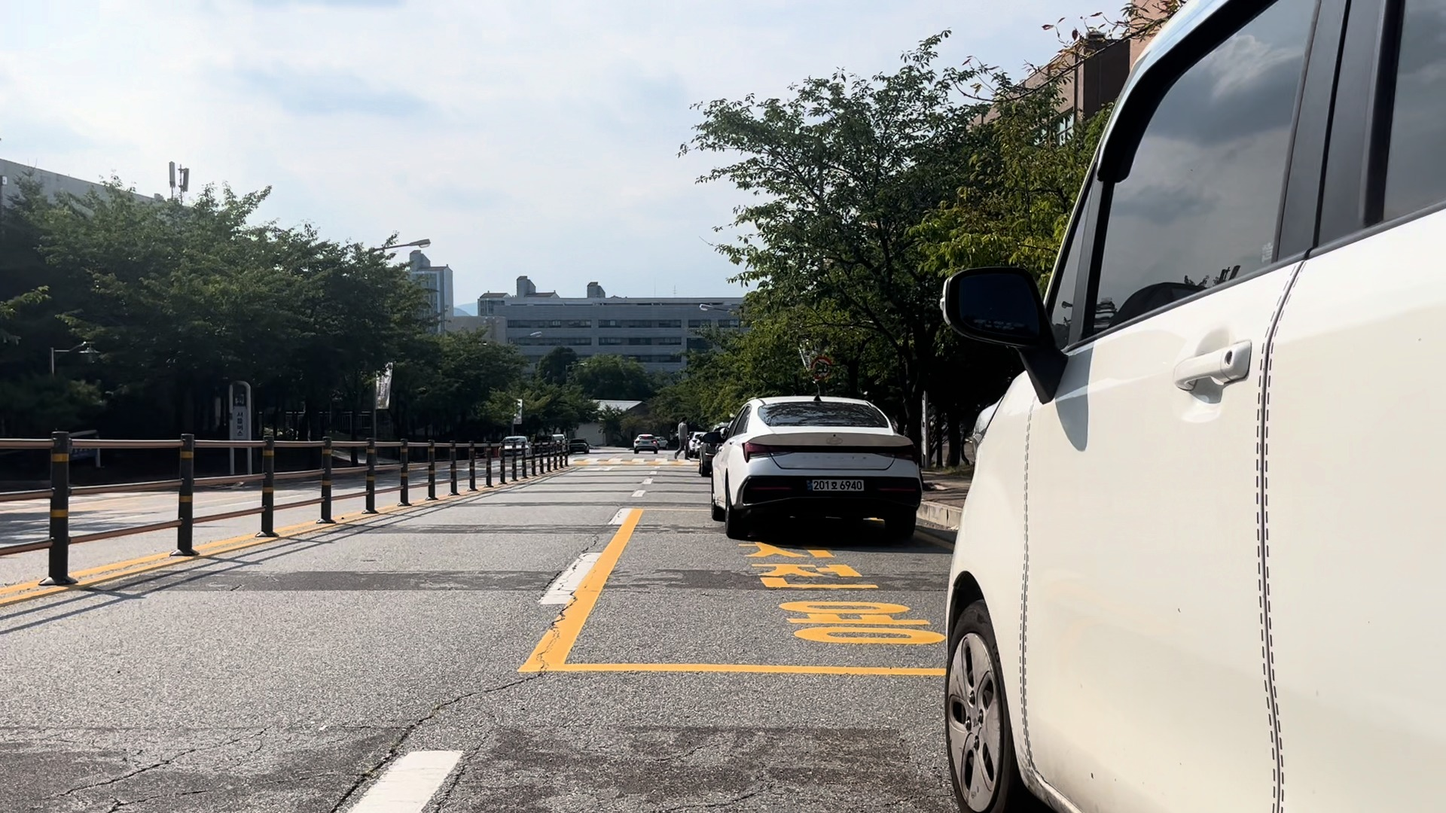door_handle: (1173, 340, 1251, 390)
side_mirror: (940, 267, 1065, 402)
tail_light: (884, 443, 920, 464), (742, 441, 775, 461)
